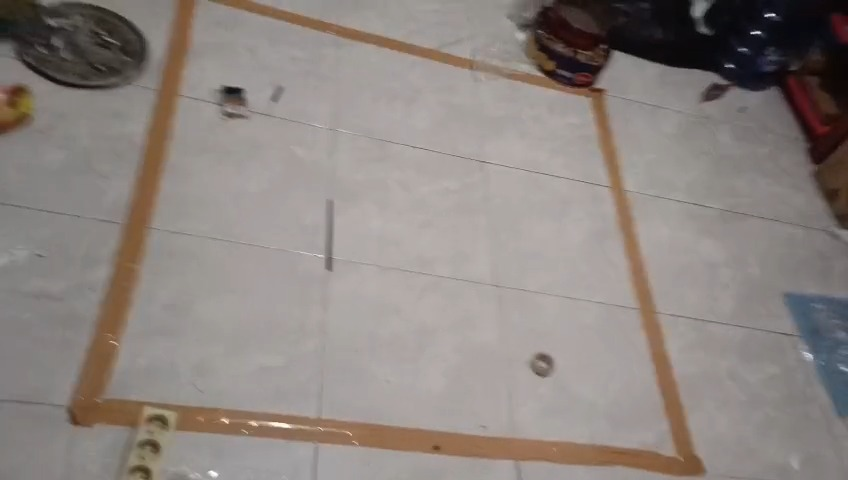floor marking: (160, 70, 704, 475), (71, 0, 194, 425), (215, 0, 473, 68)
